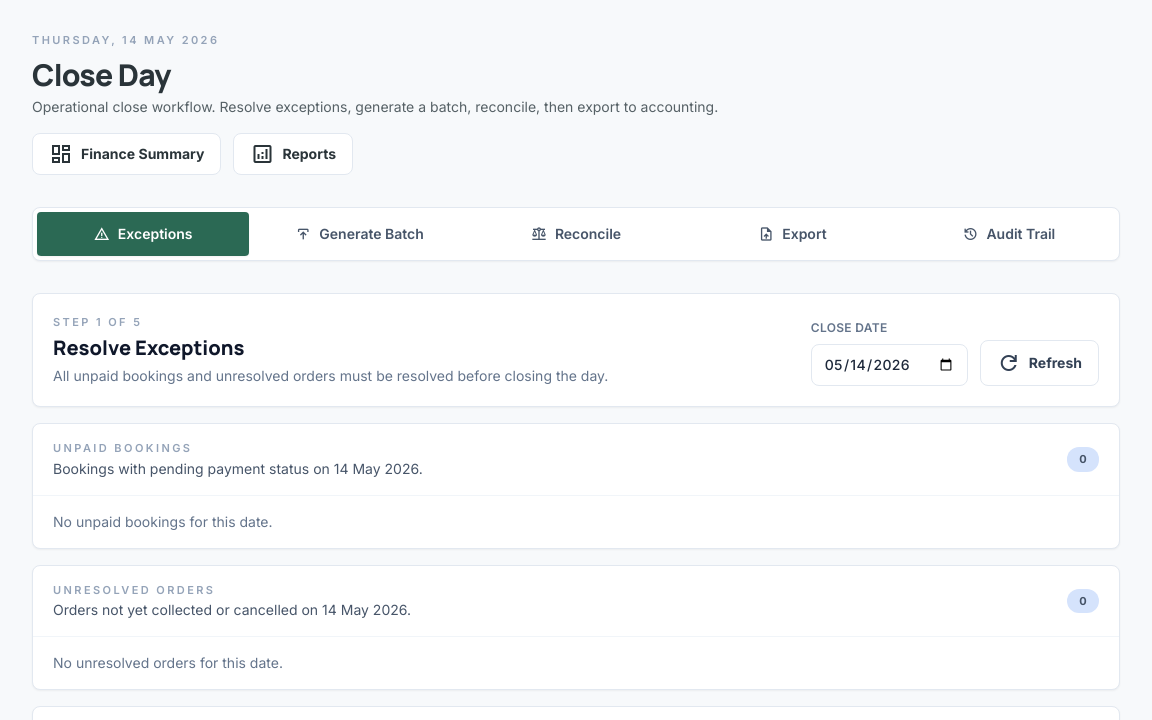
AdminFinancePage - Close Day wizard › does not reset the selected accounting profile after manual change
Click the button named "upload_file export" at (792, 234), box top-left (686, 212), bottom-right (899, 256)
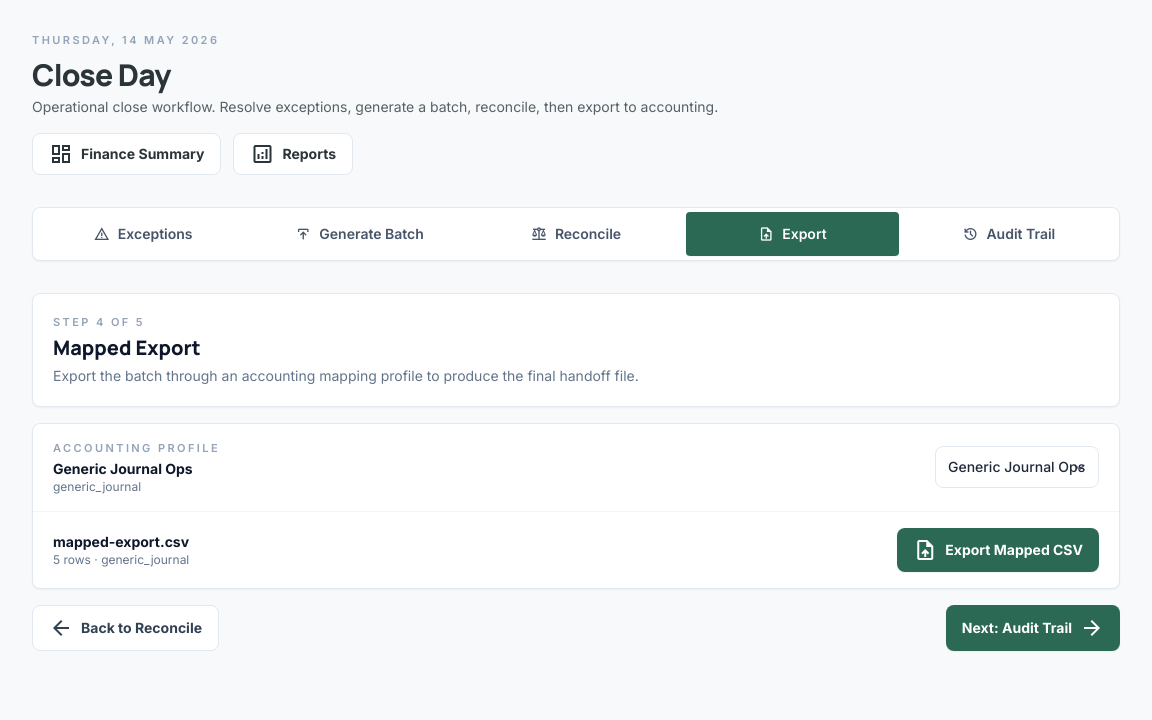
Check: the dropdown named "select accounting profile" shows "Generic Journal Ops"
Select "Secondary Ledger" in the dropdown named "select accounting profile" at (1017, 467), box top-left (935, 446), bottom-right (1099, 488)
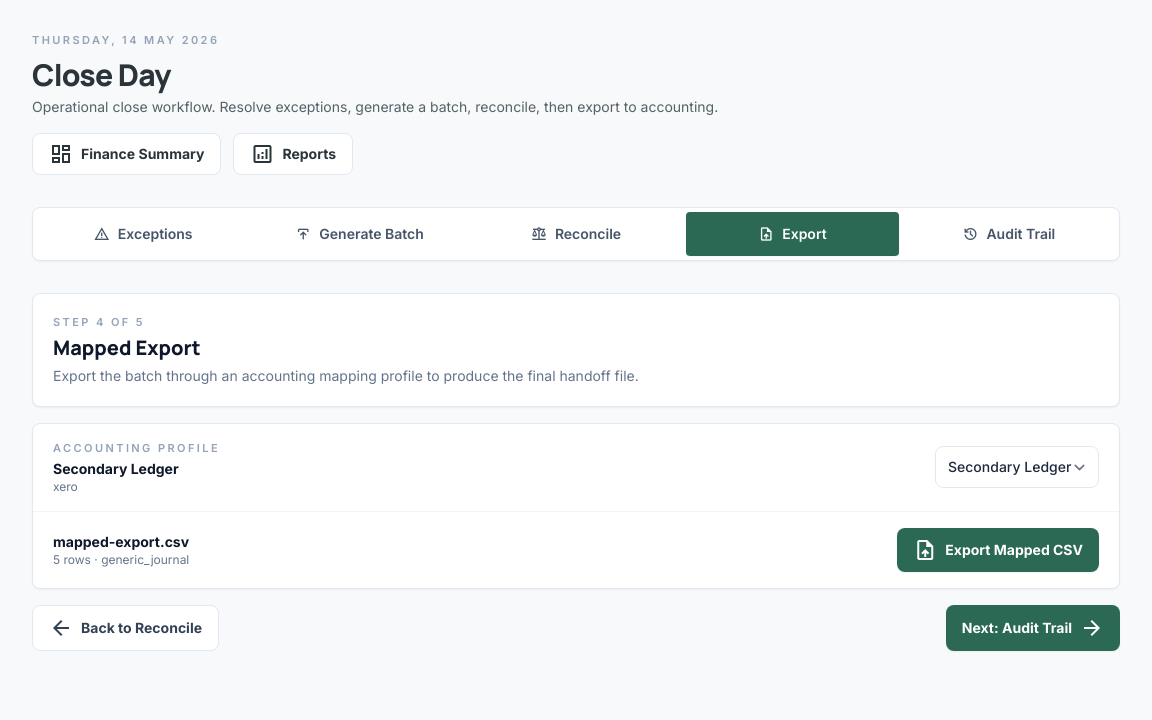
Click the button "Next: Audit Trail" at (1033, 628), box top-left (946, 604), bottom-right (1120, 650)
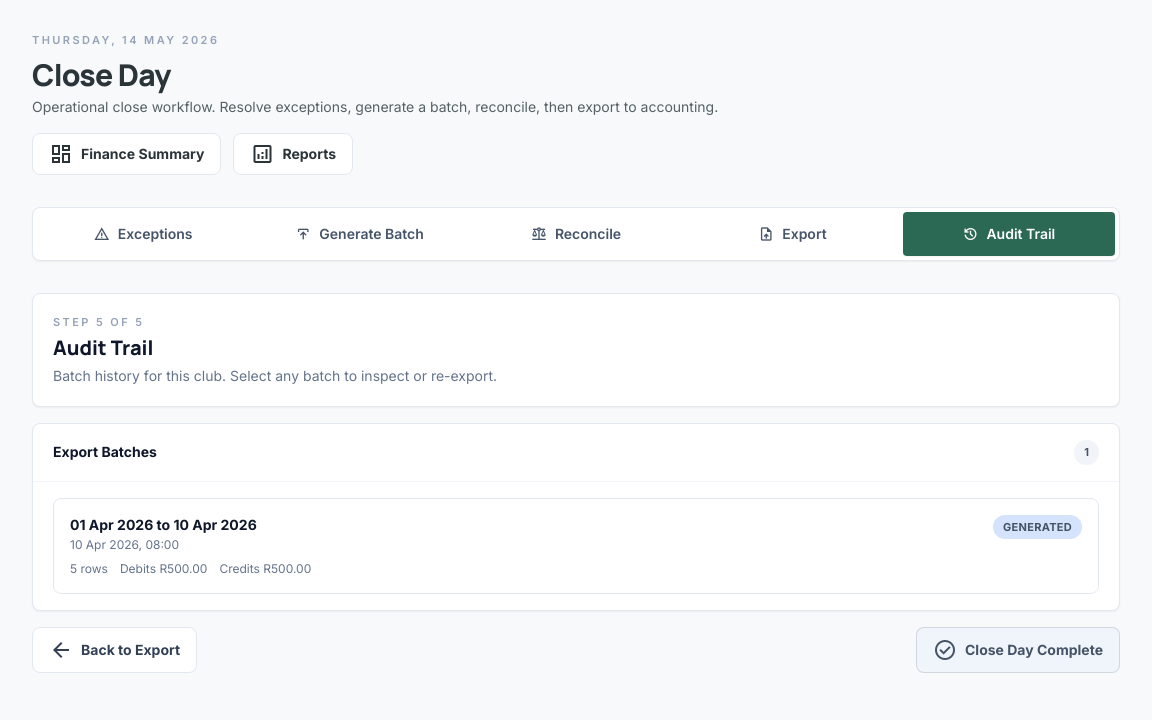
Click the button named "upload_file export" at (792, 234), box top-left (686, 212), bottom-right (899, 256)
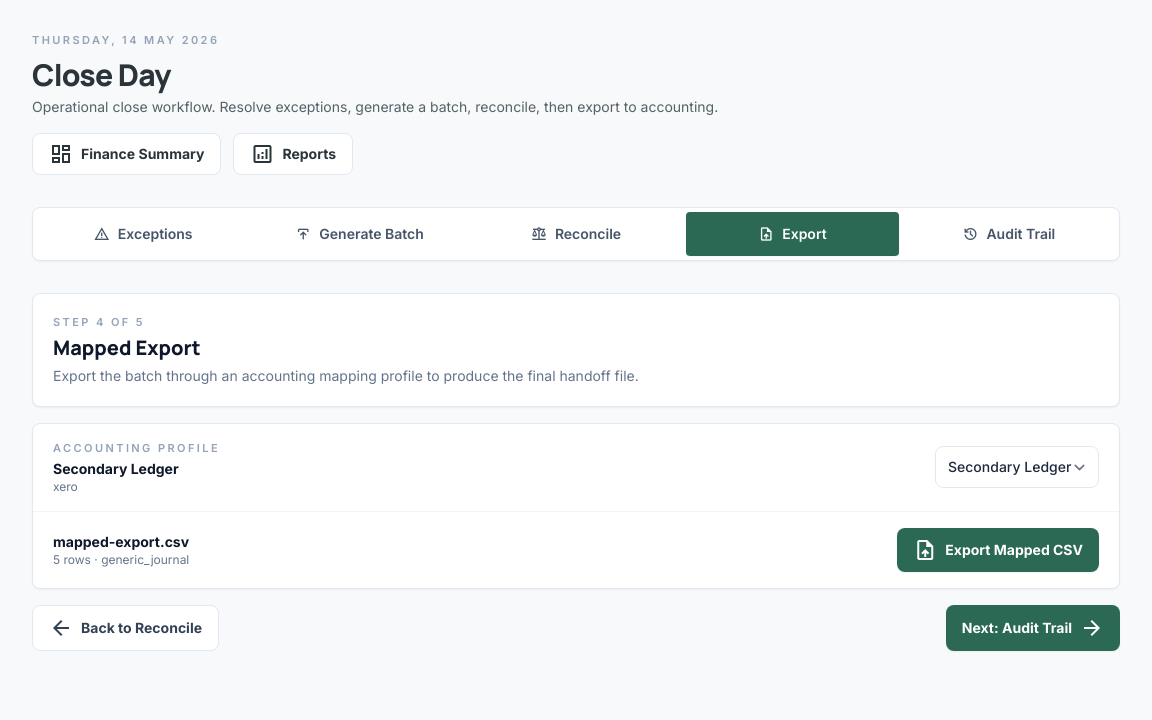
Check: the dropdown named "select accounting profile" shows "Secondary Ledger", box top-left (935, 446), bottom-right (1099, 488)
Check: the text "Secondary Ledger" is shown, box top-left (53, 460), bottom-right (179, 476)
